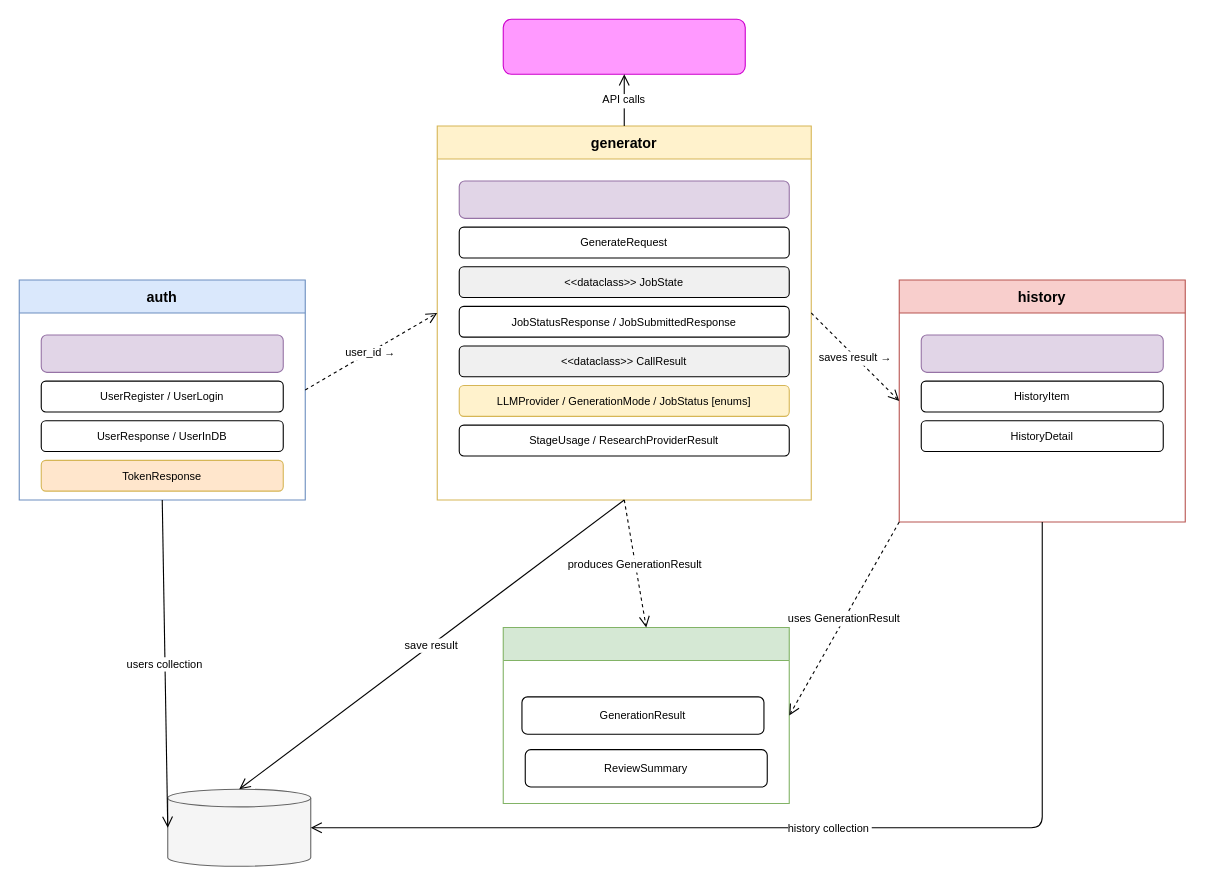
This 1205x886 diagram has some shape labels left out. The box of each missing label's shape, as (x1, y1, x2, y2) in pixels:
AuthService: (40, 334, 283, 372)
core: (502, 626, 789, 804)
GeneratorService: (458, 180, 789, 218)
HistoryService: (920, 334, 1163, 372)
LLM APIs (OpenAI / Gemini / Claude): (502, 18, 745, 74)
MongoDB Atlas: (167, 788, 311, 866)
